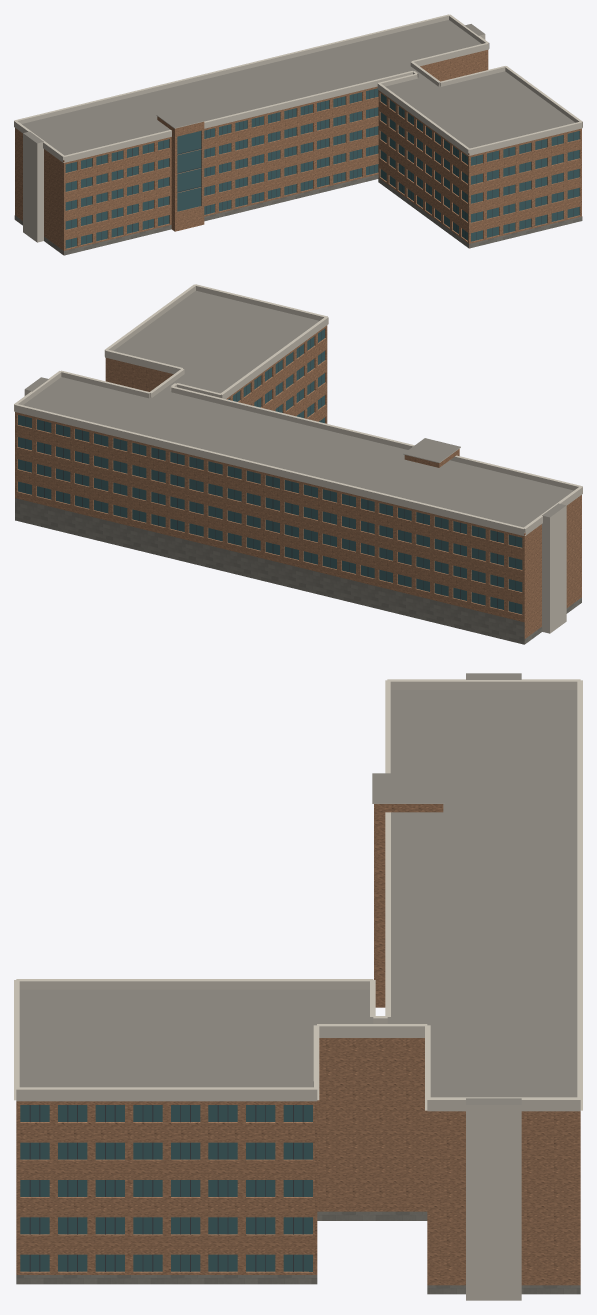
3 views of the same model, one above another, from view 1: azimuth 30°, elevation 25°; view 2: azimuth 150°, elevation 25°; view 3: azimuth 270°, elevation 25° (orthographic). The views are drawn at different scales.
Parts seen in each view (by area): view 1: eng1__wall, eng1__roof, eng1__glass, eng1__trim, eng1__base, eng1__frame; view 2: eng1__wall, eng1__roof, eng1__glass, eng1__trim, eng1__base, eng1__frame; view 3: eng1__roof, eng1__wall, eng1__trim, eng1__glass, eng1__base, eng1__frame.
Boxes of the visible parts, x1=… form: eng1__wall: x1=15, y1=50, x2=581, y2=254; eng1__roof: x1=22, y1=20, x2=574, y2=160; eng1__glass: x1=65, y1=88, x2=579, y2=248; eng1__trim: x1=14, y1=14, x2=582, y2=242; eng1__base: x1=14, y1=174, x2=582, y2=255; eng1__frame: x1=71, y1=89, x2=573, y2=247; eng1__wall: x1=15, y1=325, x2=581, y2=638; eng1__roof: x1=23, y1=291, x2=573, y2=533; eng1__glass: x1=18, y1=328, x2=522, y2=614; eng1__trim: x1=14, y1=284, x2=582, y2=633; eng1__base: x1=15, y1=498, x2=581, y2=644; eng1__frame: x1=25, y1=331, x2=515, y2=612; eng1__roof: x1=19, y1=673, x2=577, y2=1104; eng1__wall: x1=16, y1=804, x2=580, y2=1285; eng1__trim: x1=14, y1=679, x2=582, y2=1300; eng1__glass: x1=20, y1=1105, x2=312, y2=1271; eng1__base: x1=16, y1=1211, x2=580, y2=1294; eng1__frame: x1=29, y1=1105, x2=303, y2=1271.
Size of the model in its own units: 91.53 by 20.32 by 50.98.
Materials: 6 (2 with a texture image).
